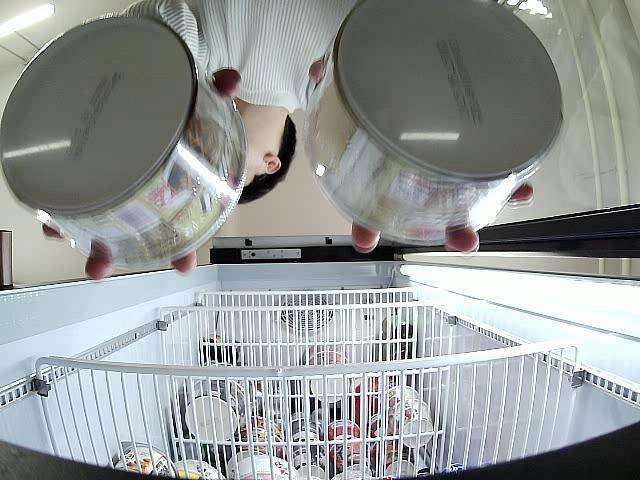03_chapagetti_L: (0, 14, 247, 271), (304, 0, 562, 245)
